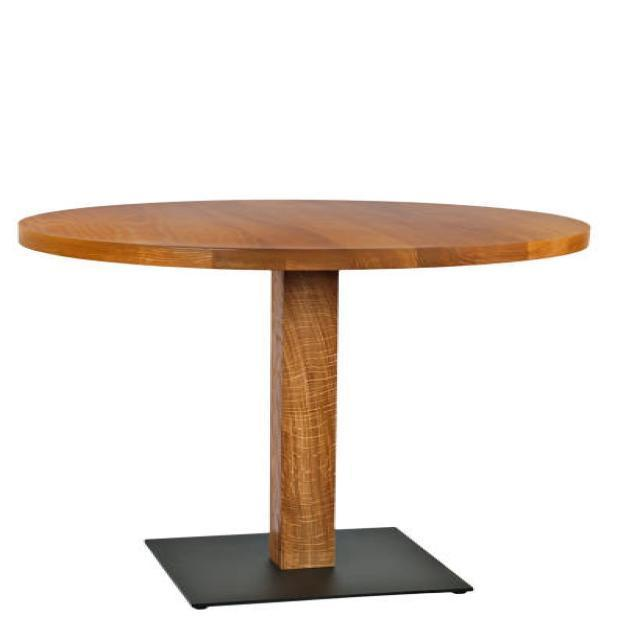table: (16, 196, 590, 606)
